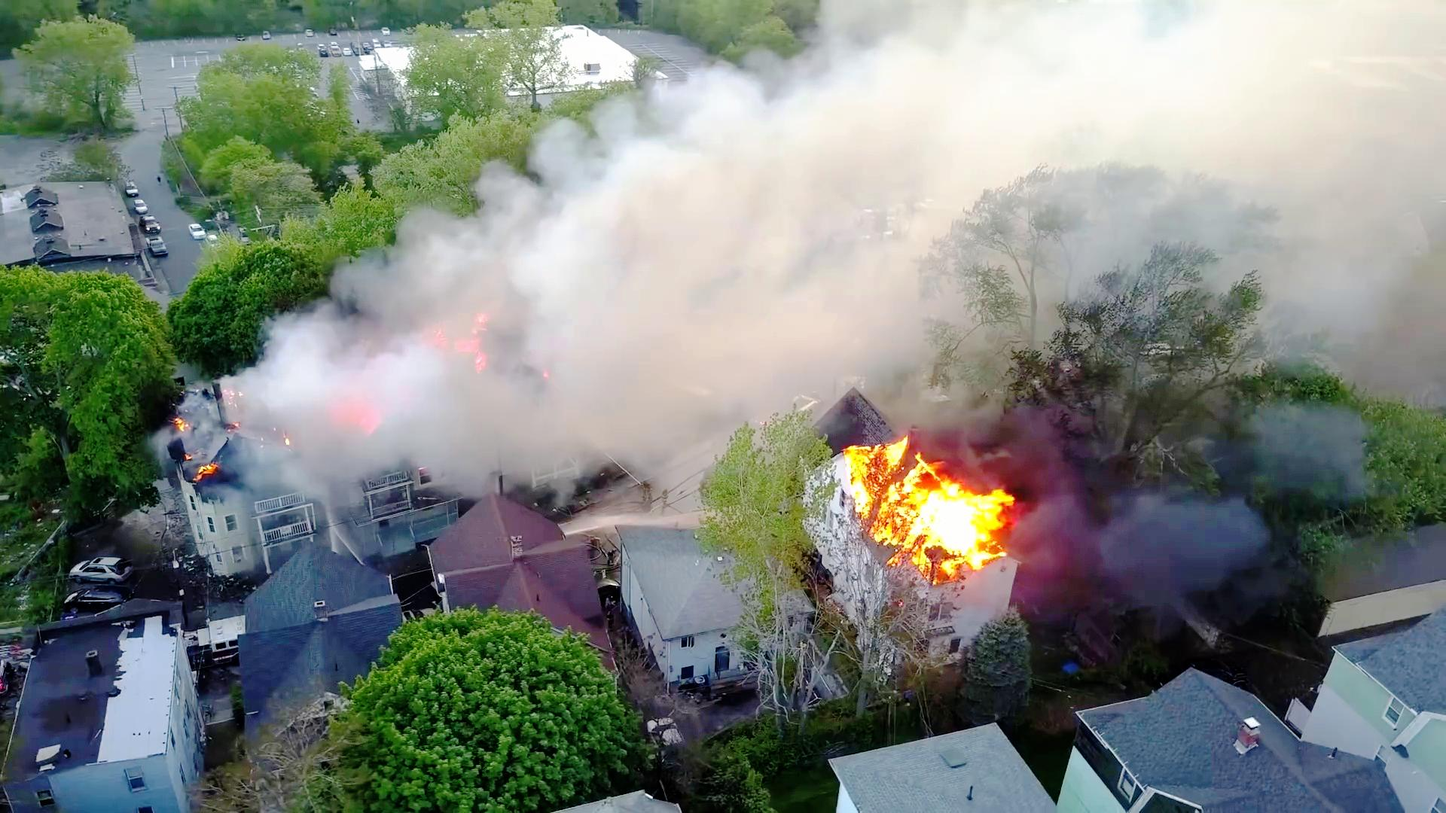fire: (851, 439, 1019, 581)
